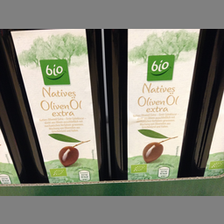oil: (1, 30, 108, 181), (103, 29, 208, 179)
